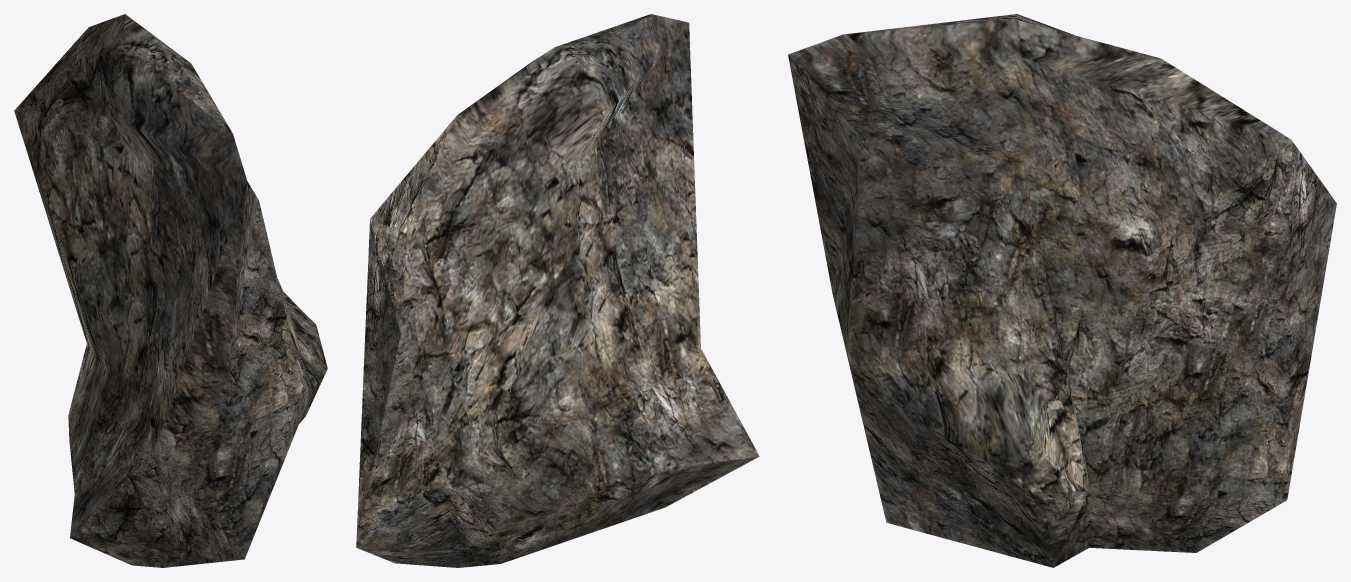
The model's file is pir_m_prp_cav_rock_e.fbx.
3 renders of one model, left to right at view 1: azimuth 30°, elevation 25°; view 2: azimuth 150°, elevation 25°; view 3: azimuth 270°, elevation 25°, orthographic. The views are drawn at different scales.
Parts seen in each view (by area): view 1: lod_high; view 2: lod_high; view 3: lod_high.
Boxes of the visible parts, x1,y1,x2,y2 form: lod_high: [14, 14, 327, 567]; lod_high: [356, 14, 759, 567]; lod_high: [788, 14, 1336, 567].
Bounding box in the file's own units: 3977 × 5656 × 5666.
Materials: 1 (1 with a texture image).
